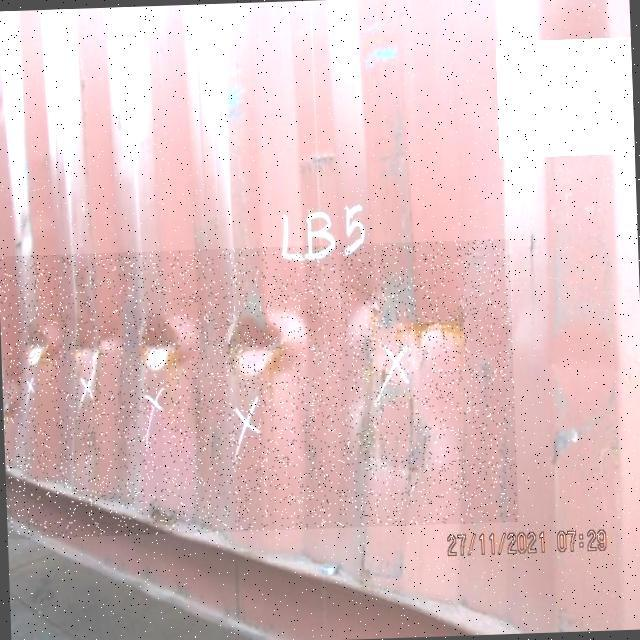dent: (1, 239, 519, 540)
